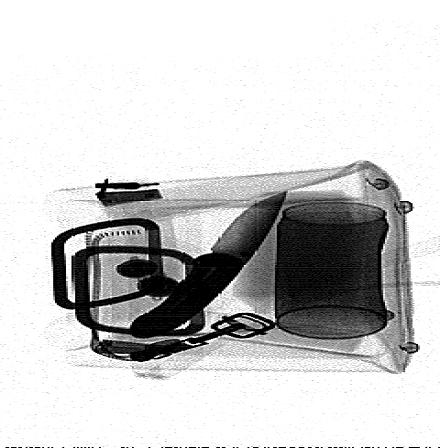Knife: (127, 190, 289, 340)
